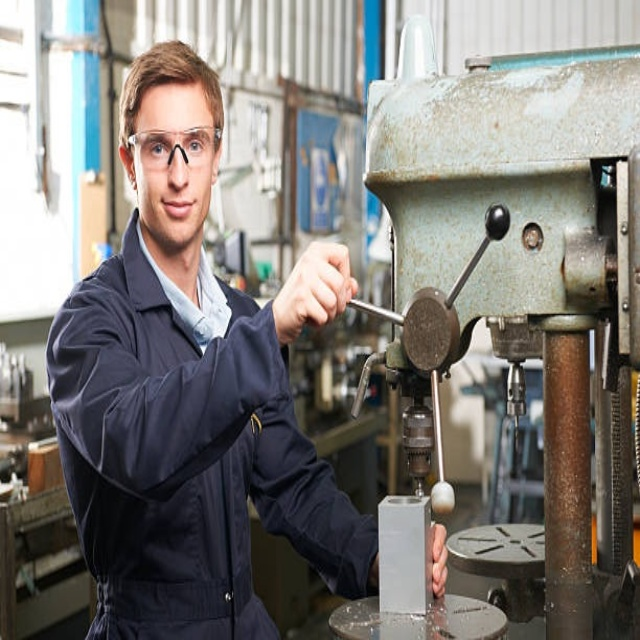Gafas: (128, 126, 222, 171)
Sin_guantes: (279, 231, 357, 336), (429, 521, 451, 600)
Sin_mascara: (154, 190, 201, 235)
